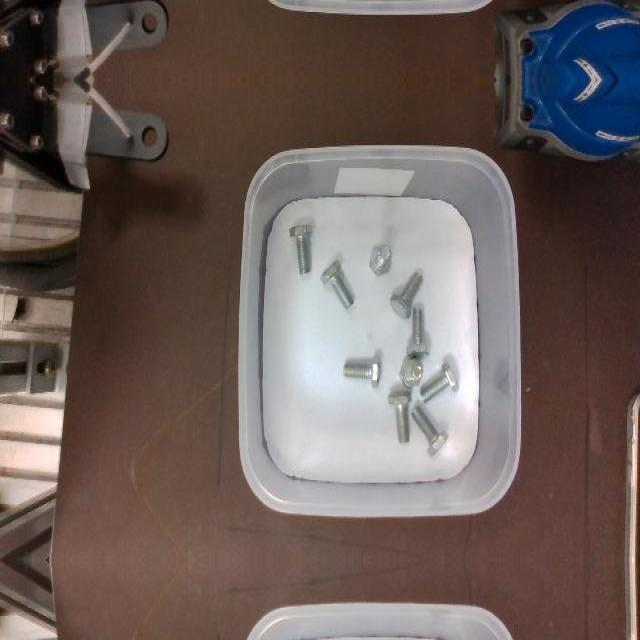screw: (410, 405, 448, 457), (319, 259, 353, 309), (420, 361, 459, 403), (390, 271, 423, 317), (387, 389, 411, 443), (405, 307, 429, 357), (289, 224, 313, 274), (343, 356, 380, 388), (398, 358, 422, 388), (369, 245, 392, 275)
